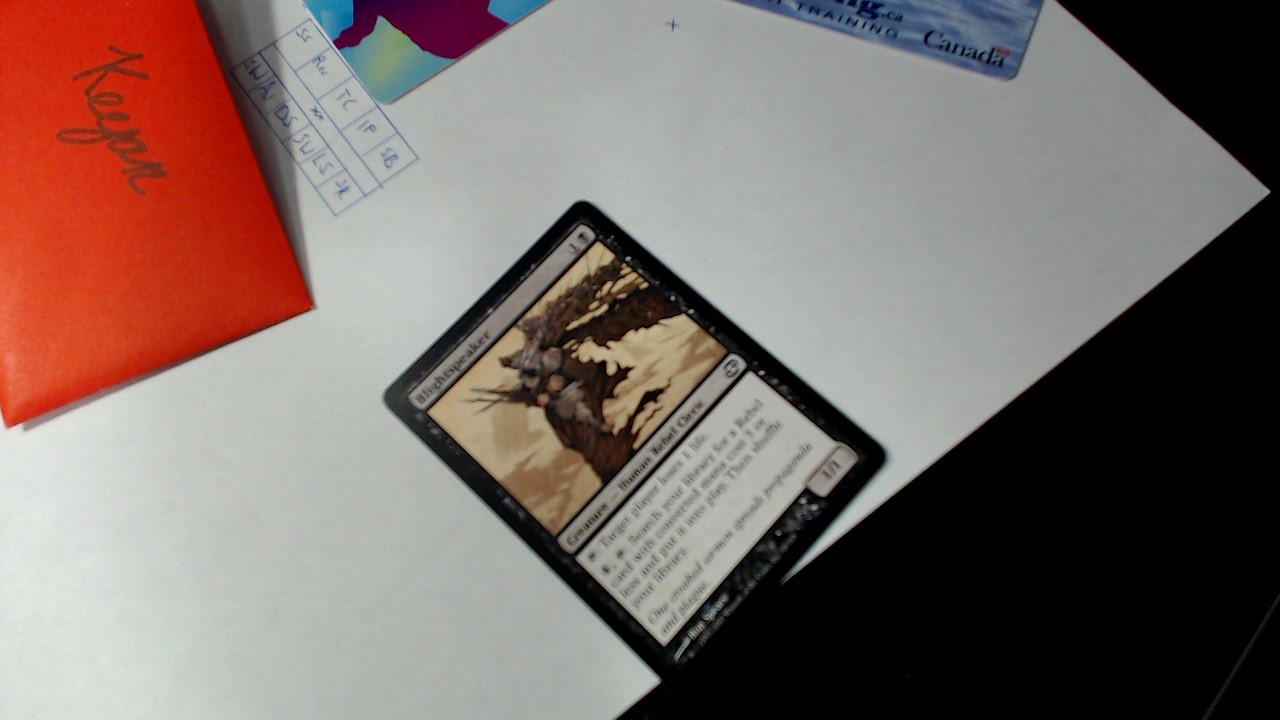MTG Card: (373, 192, 900, 695)
